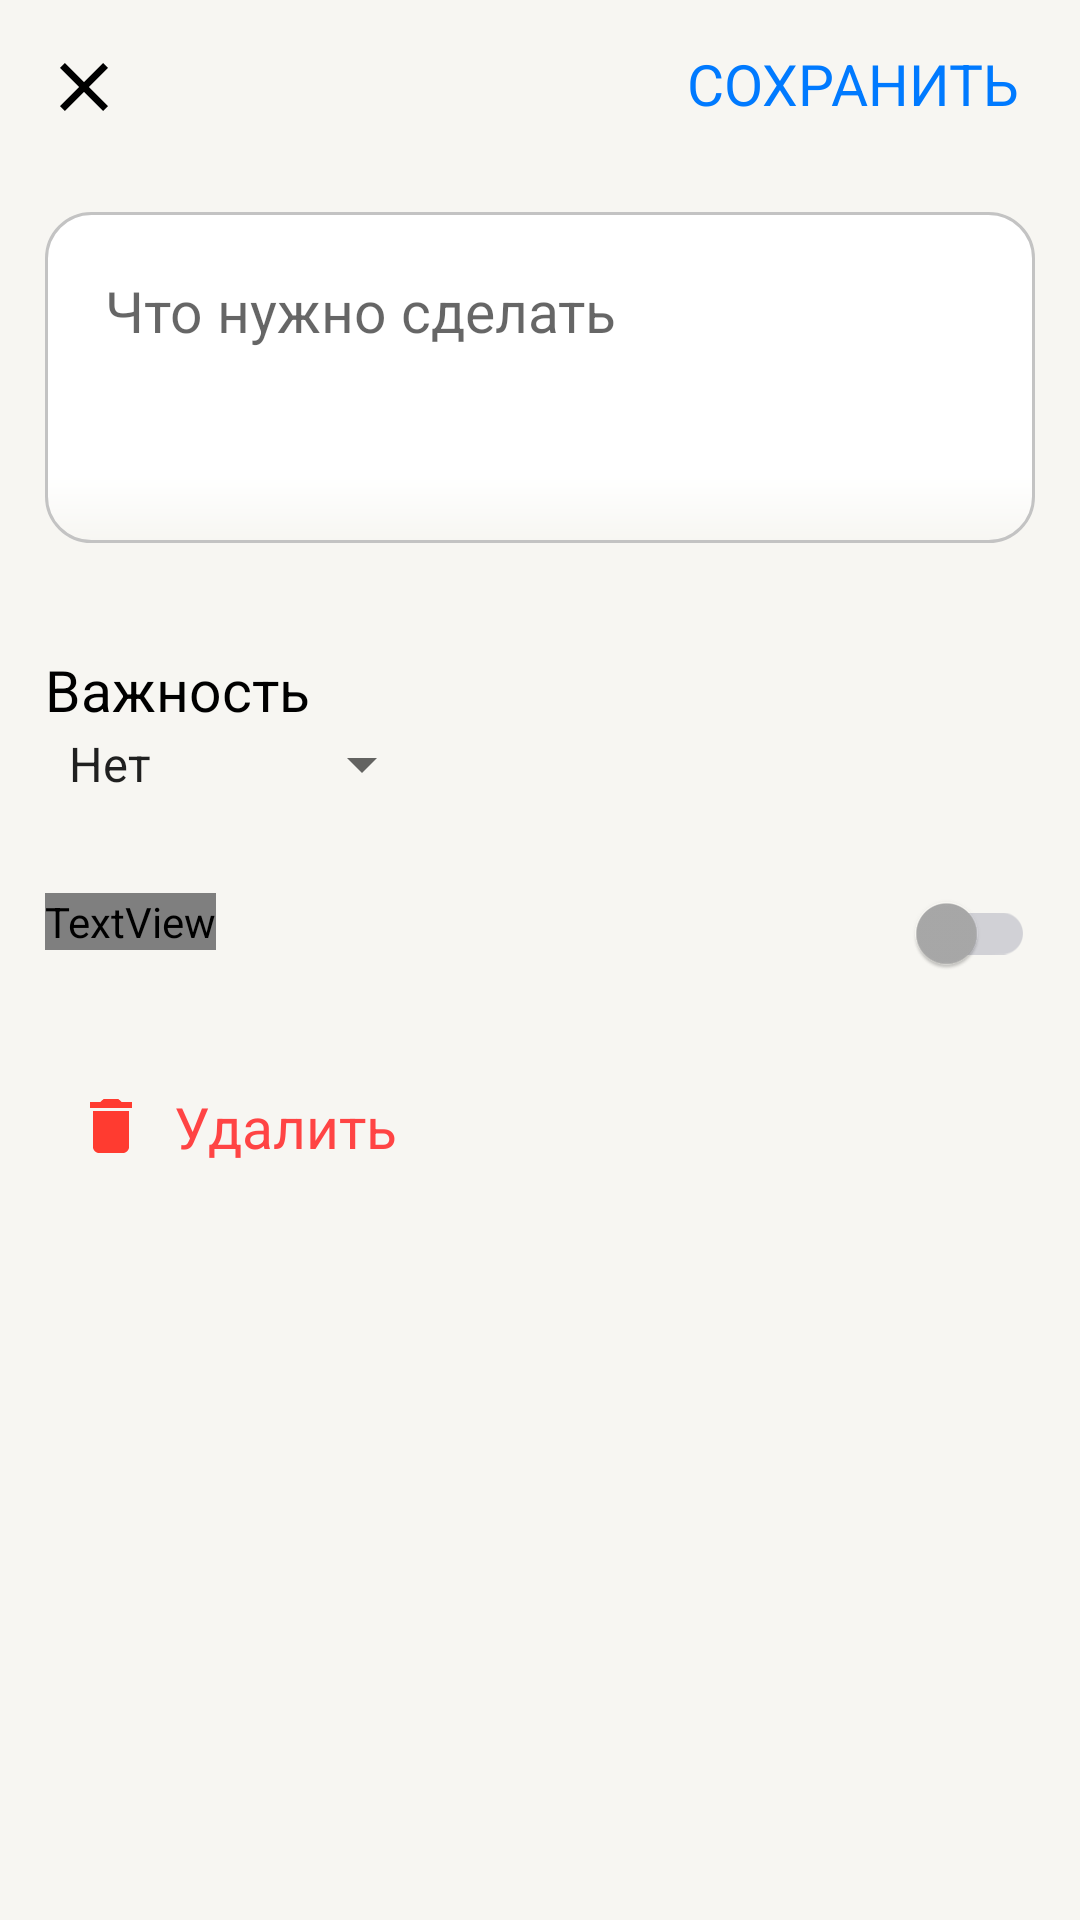

Point at icon controls on the screen. Image size 1080×1920, points as point (x, y).
close: point (84, 87)
